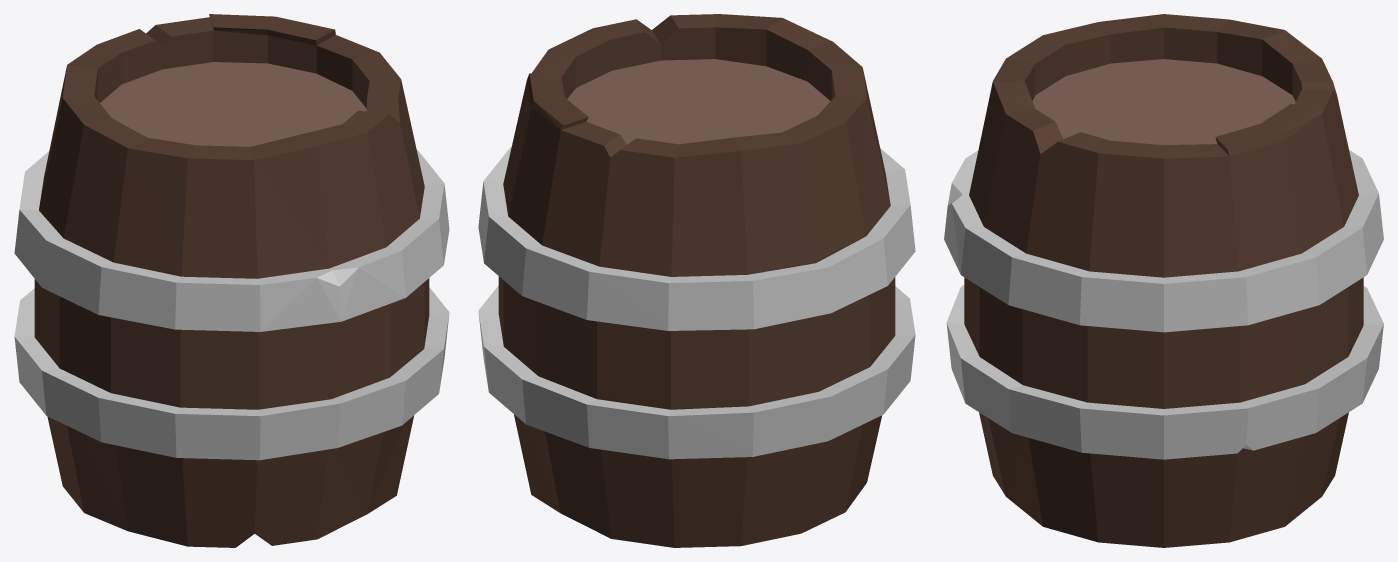
File: Barrel.fbx
The picture shows the model from 3 angles, left to right: view 1: azimuth 30°, elevation 25°; view 2: azimuth 150°, elevation 25°; view 3: azimuth 270°, elevation 25°; orthographic projection.
Visible parts, largest first — view 1: Barrel 1; view 2: Barrel 1; view 3: Barrel 1.
Part boxes in pixels (left/top/right/bottom): Barrel 1: left=14, top=14, right=449, bottom=547; Barrel 1: left=478, top=14, right=915, bottom=547; Barrel 1: left=944, top=14, right=1383, bottom=547.
Size of the model in its own units: 2.05 by 2.03 by 2.05.
